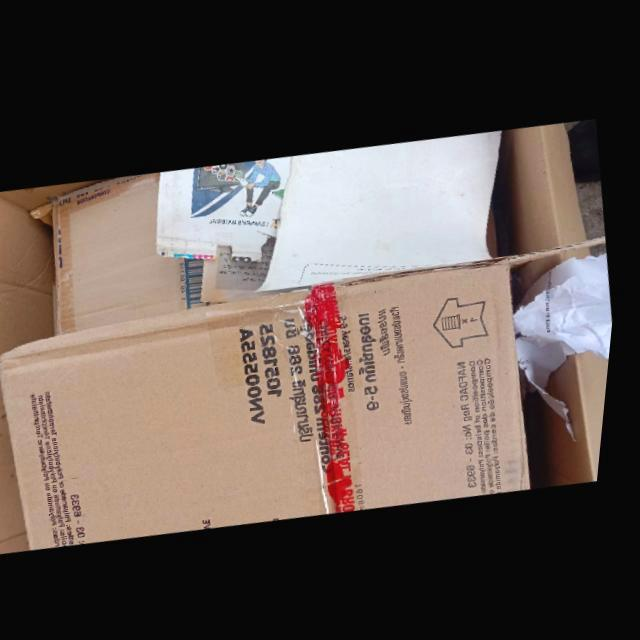cardboard: (5, 228, 610, 549)
paper: (259, 123, 505, 288), (519, 245, 618, 434), (160, 151, 294, 257)
